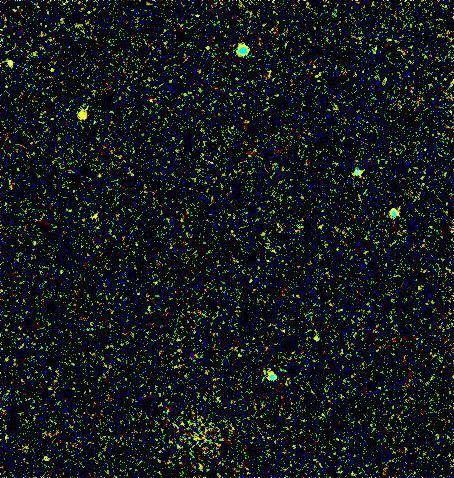star: (68, 99, 98, 129)
